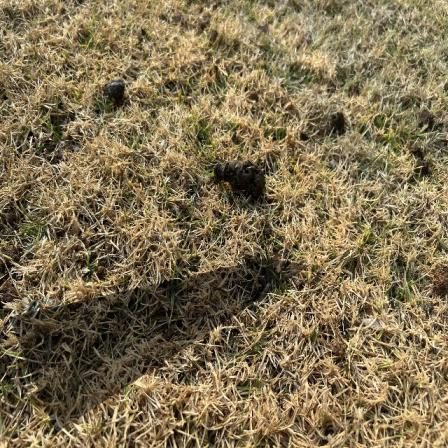dog-poop: (218, 158, 264, 200)
